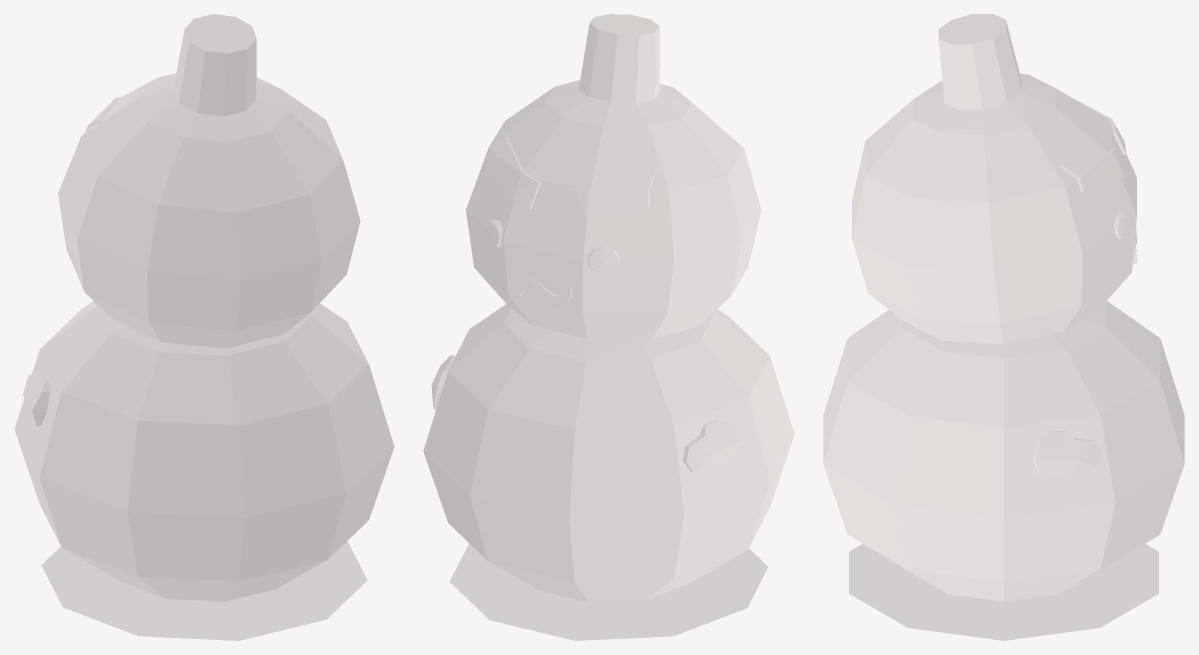
Rendered from static.ico.obj.
The picture shows the model from 3 angles, left to right: view 1: azimuth 30°, elevation 25°; view 2: azimuth 150°, elevation 25°; view 3: azimuth 270°, elevation 25°; orthographic projection. The views are drawn at different scales.
Bounding box in the file's own units: 2.27 × 3.65 × 2.18.
